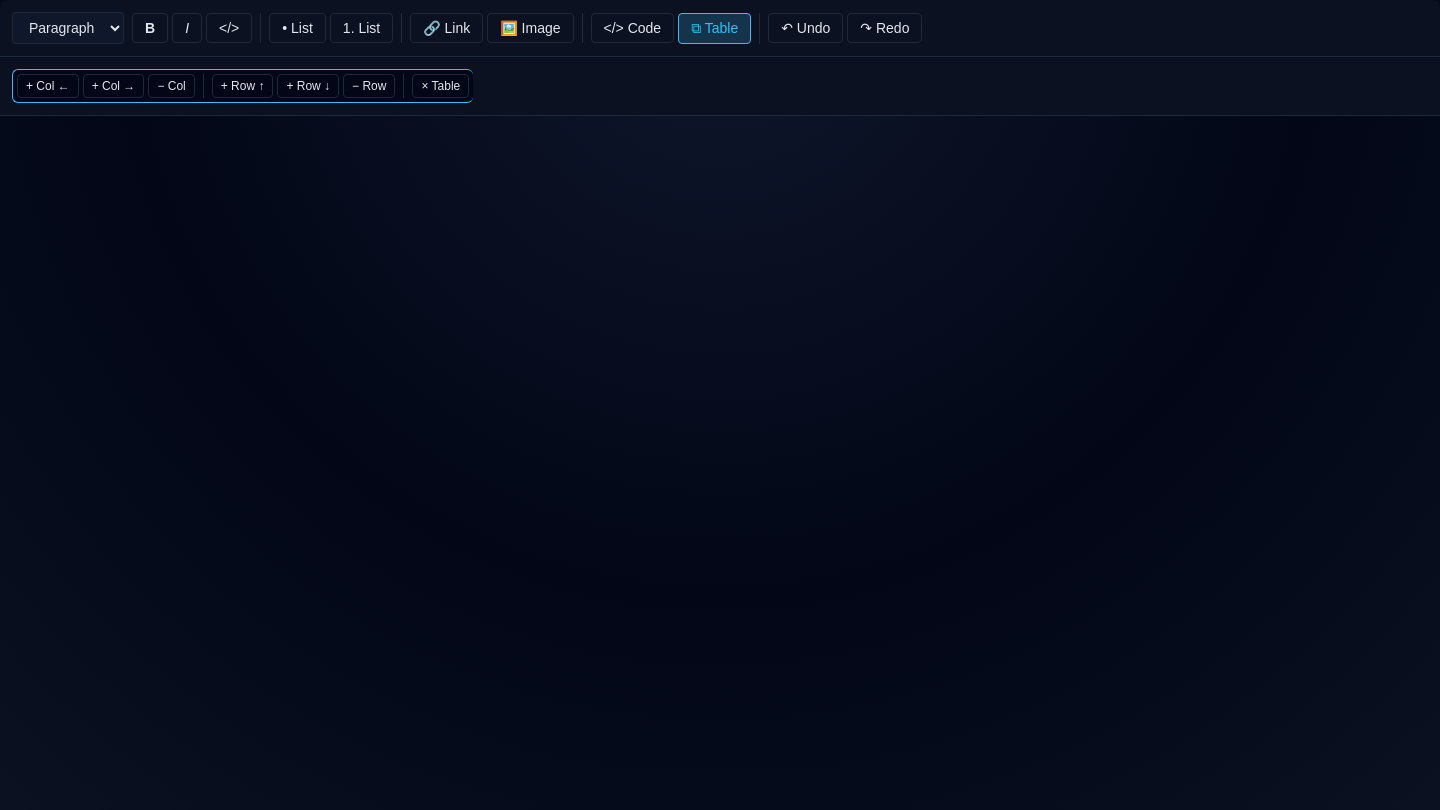
Test case: EditorToolbar › opens table dialog when table button is clicked
Click the button titled "Insert Table".
click(715, 28)  # box [678,12,751,44]
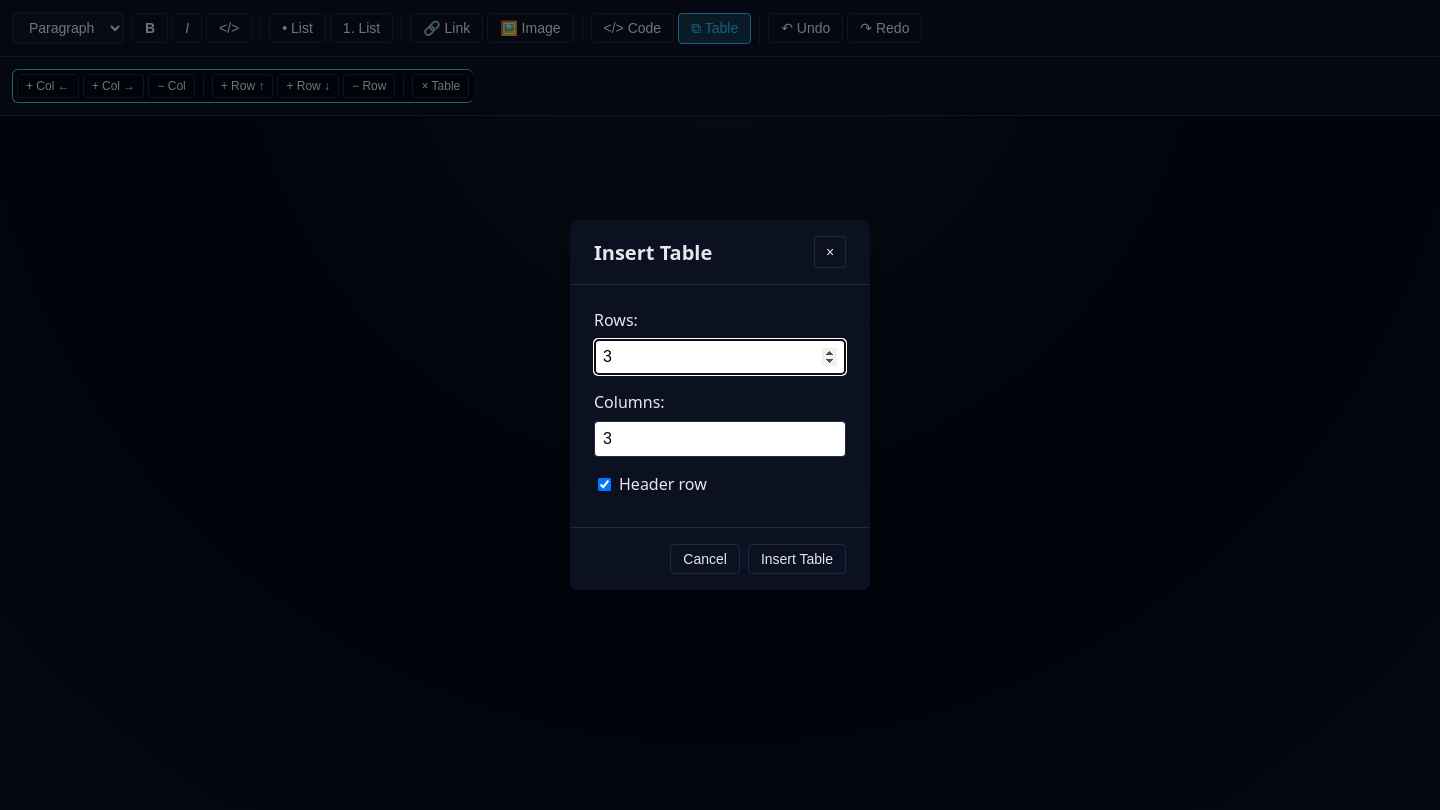
Expected: the heading "Insert Table" is shown, [594,238,712,266]
